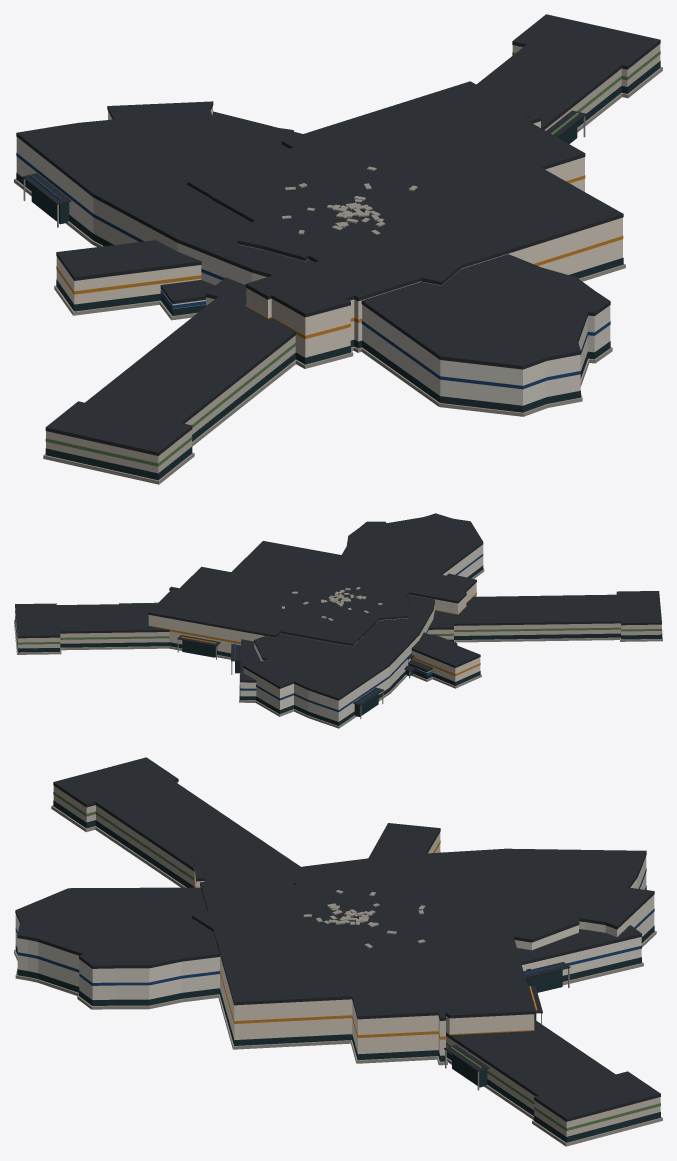
The model's file is malls.fbx.
3 views of the same model, one above another, from view 1: azimuth 30°, elevation 25°; view 2: azimuth 150°, elevation 25°; view 3: azimuth 270°, elevation 25° (orthographic). The views are drawn at different scales.
Parts seen in each view (by area): view 1: mall_6161, mall_126911, mall_11654, mall_164155, mall_312, mall_188578, mall_2433, mall_14117, mall_449, mall_5538, mall_60010; view 2: mall_6161, mall_126911, mall_11654, mall_312, mall_164155, mall_325, mall_188578, mall_5538, mall_28467, mall_14117, mall_2433; view 3: mall_126911, mall_6161, mall_11654, mall_312, mall_325, mall_164155, mall_28467, mall_188578, mall_5538, mall_60010.
Boxes of the visible parts, x1,y1,x2,y2 form: mall_6161: (14, 101, 612, 416); mall_126911: (187, 81, 625, 368); mall_11654: (43, 14, 662, 484); mall_164155: (54, 240, 201, 315); mall_312: (237, 176, 488, 285); mall_188578: (258, 166, 437, 239); mall_2433: (282, 184, 450, 239); mall_14117: (159, 280, 215, 320); mall_449: (294, 178, 422, 232); mall_5538: (262, 178, 429, 261); mall_60010: (257, 187, 450, 236); mall_6161: (243, 513, 484, 728); mall_126911: (148, 541, 476, 659); mall_11654: (14, 591, 662, 654); mall_312: (309, 560, 408, 622); mall_164155: (408, 632, 481, 688); mall_325: (231, 639, 260, 702); mall_188578: (278, 576, 386, 626); mall_5538: (284, 590, 409, 609); mall_28467: (278, 618, 405, 638); mall_14117: (404, 635, 457, 681); mall_2433: (327, 574, 360, 619); mall_126911: (194, 852, 542, 1065); mall_6161: (14, 848, 656, 1009); mall_11654: (51, 757, 662, 1146); mall_312: (192, 869, 441, 950); mall_325: (517, 925, 643, 992); mall_164155: (368, 823, 440, 858); mall_28467: (205, 860, 441, 910); mall_188578: (308, 890, 443, 944); mall_5538: (294, 875, 400, 950); mall_60010: (266, 895, 433, 938).
Size of the model in its own units: 45958 by 2839 by 34702.
